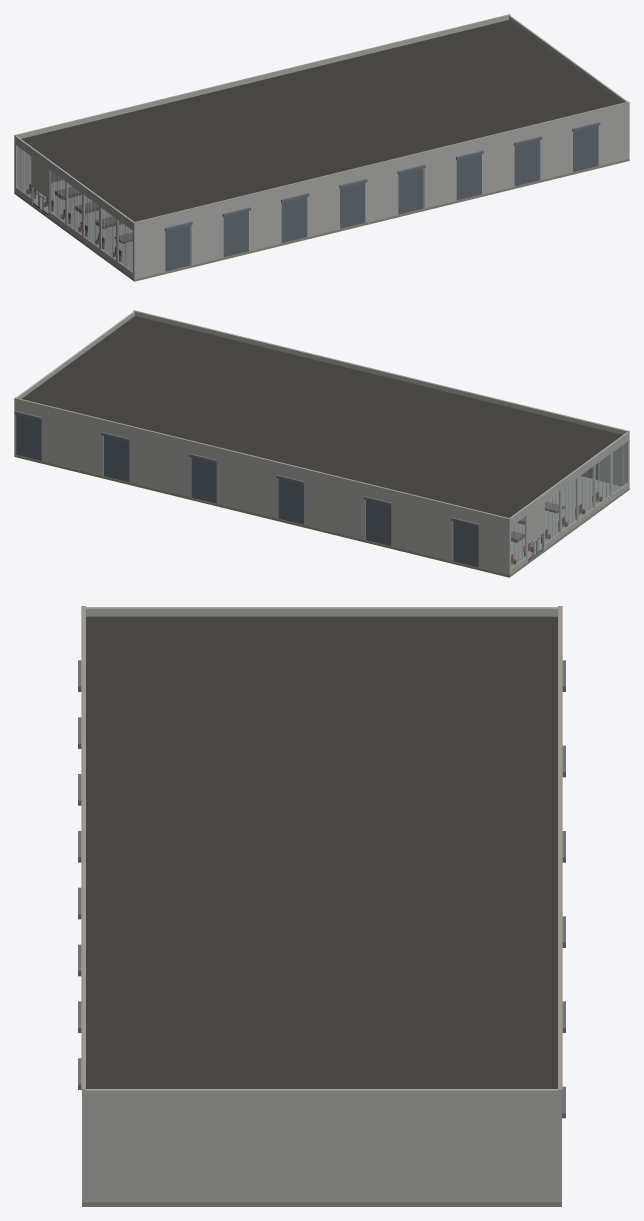
The model's file is helicopter_hangar.glb.
3 renders of one model, top to bottom at view 1: azimuth 30°, elevation 25°; view 2: azimuth 150°, elevation 25°; view 3: azimuth 270°, elevation 25°, orthographic. The views are drawn at different scales.
Parts seen in each view (by area): view 1: LOD0, FURN; view 2: LOD0, FURN; view 3: LOD0.
Part boxes in pixels (bbox=[...]): LOD0: bbox=[14, 14, 629, 281]; FURN: bbox=[26, 184, 132, 261]; LOD0: bbox=[14, 310, 629, 577]; FURN: bbox=[511, 491, 602, 564]; LOD0: bbox=[78, 606, 565, 1206].
Size of what is drawn, in the model's own units: 100 by 11.33 by 42.7.
